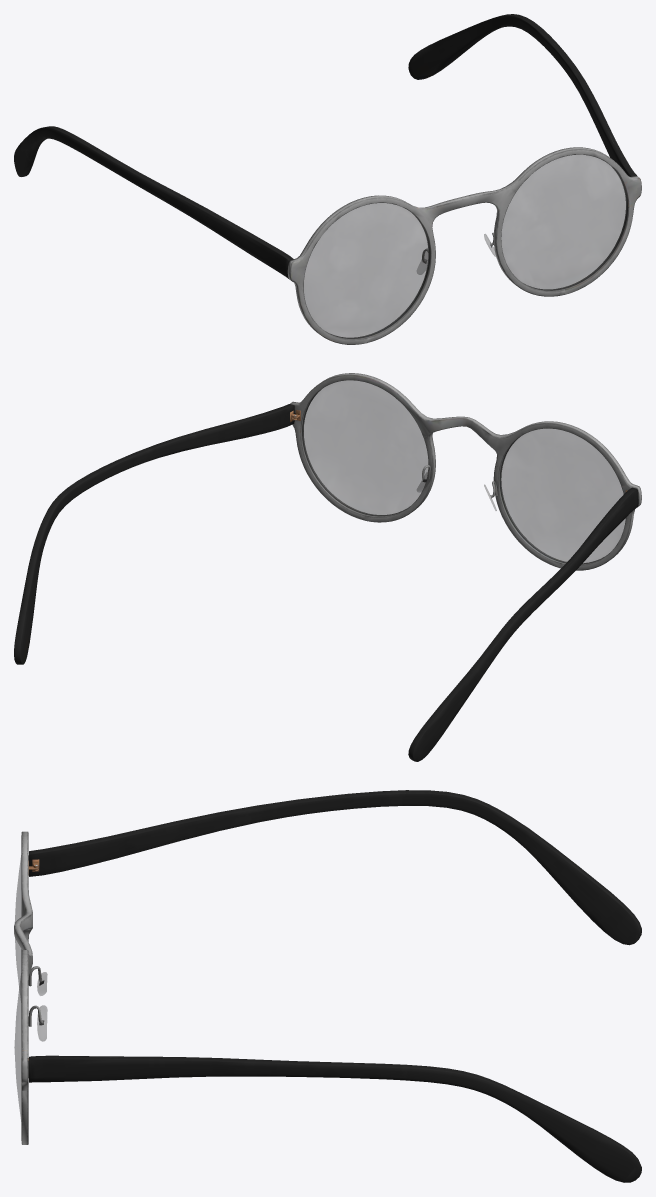
Rendered from round_spectacles.glb.
3 views of the same model, one above another, from view 1: azimuth 30°, elevation 25°; view 2: azimuth 150°, elevation 25°; view 3: azimuth 270°, elevation 25° (orthographic). The views are drawn at different scales.
Visible parts, largest first — view 1: round_spectacles; view 2: round_spectacles; view 3: round_spectacles.
Boxes of the visible parts, x1,y1,x2,y2 form: round_spectacles: (14, 14, 641, 344); round_spectacles: (14, 373, 641, 761); round_spectacles: (14, 790, 641, 1182).
Bounding box in the file's own units: 0.1578 × 0.0463 × 0.149.
Materials: 2 (2 with a texture image).
